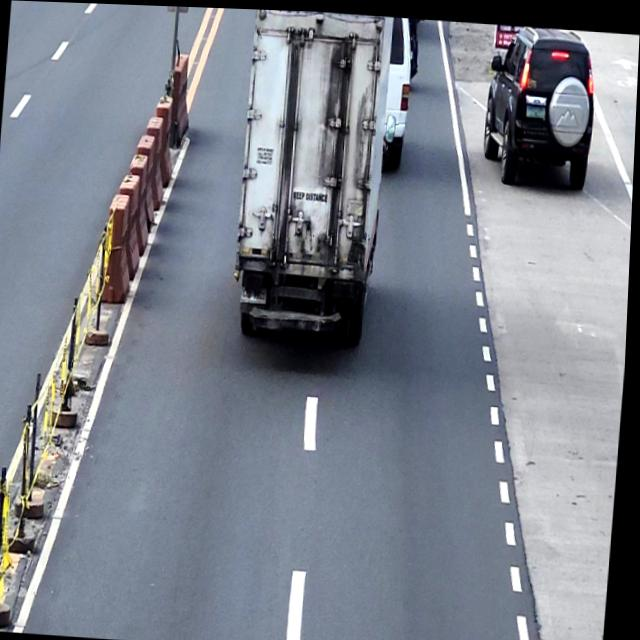Car: (481, 20, 600, 186)
License-Plate: (241, 282, 270, 303), (525, 100, 548, 116)
Truck: (230, 7, 395, 343)
